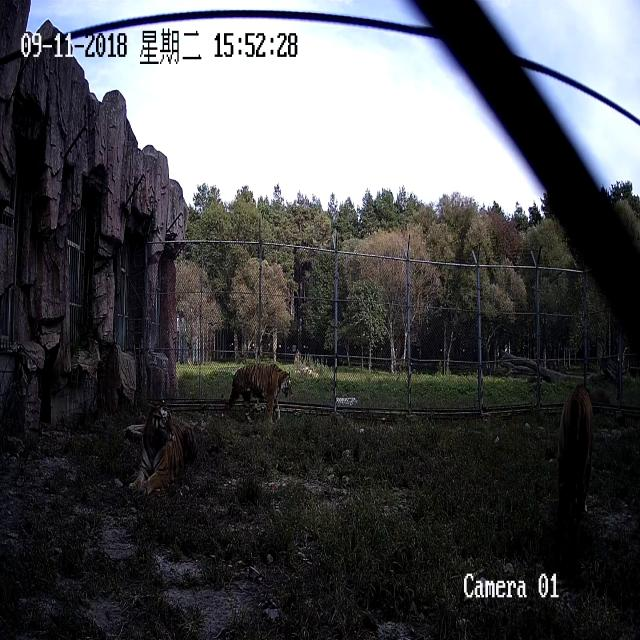Tiger: (542, 354, 605, 532), (130, 388, 203, 506), (222, 348, 298, 425)
